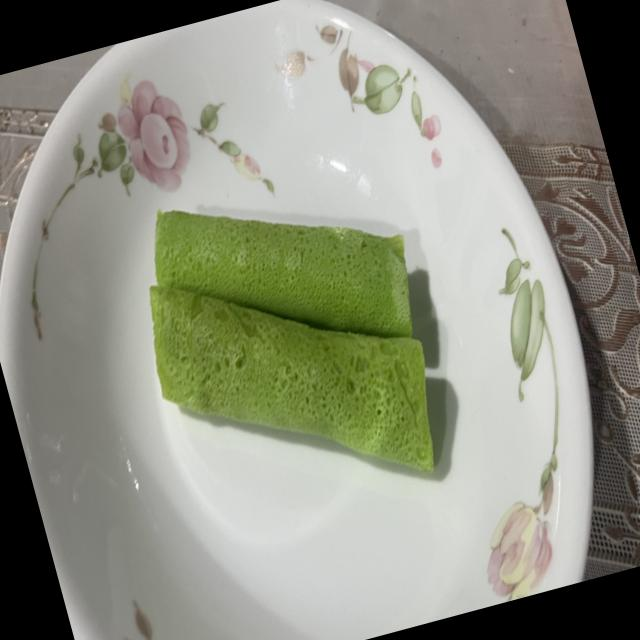Kuih-Ketayap: (150, 285, 433, 471), (154, 209, 412, 337)
